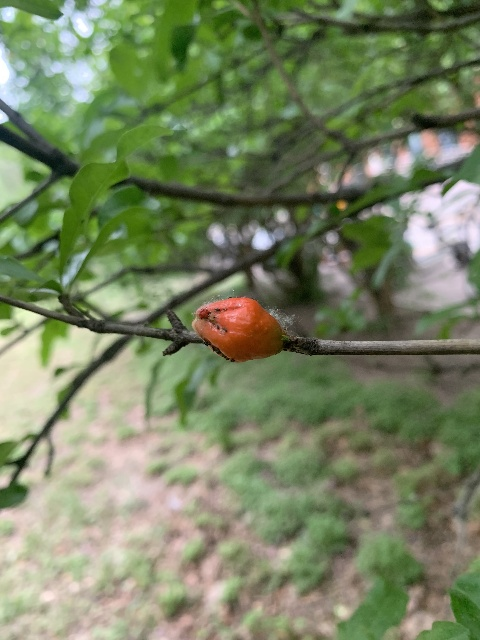bud: (190, 296, 283, 362)
